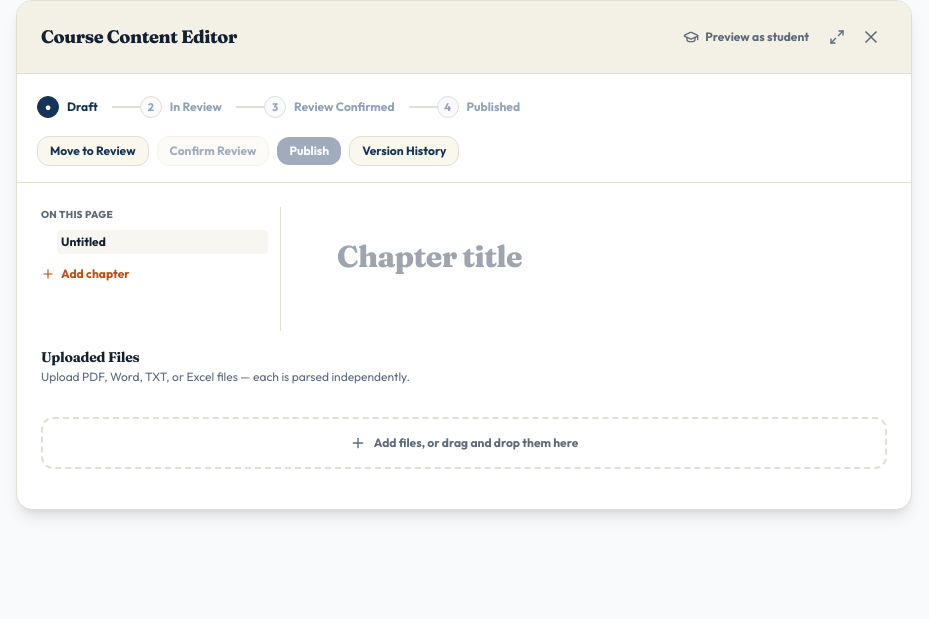
Test: CourseContentEditor -- Topic/Sub-Topic structure (Story 7.2) › committing a slash command outside a Page body actually inserts the block
Type "/warning" into the field at [592, 269], box 337,239 -> 847,299
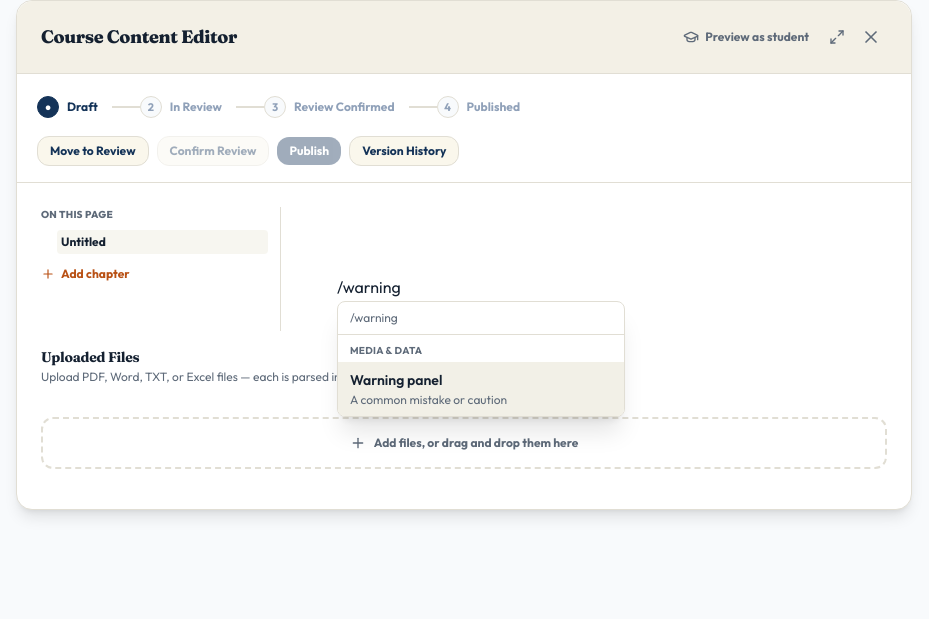
Expected: the list named "Insert block" is shown, 337,301 -> 625,417
Press Enter
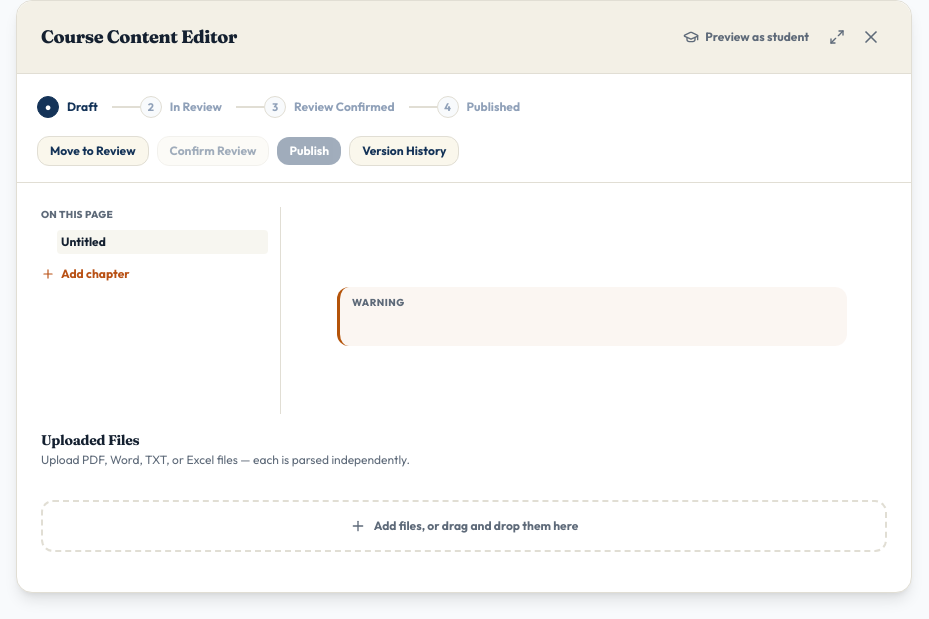
Expected: the 1st text box is shown, 337,287 -> 847,346
